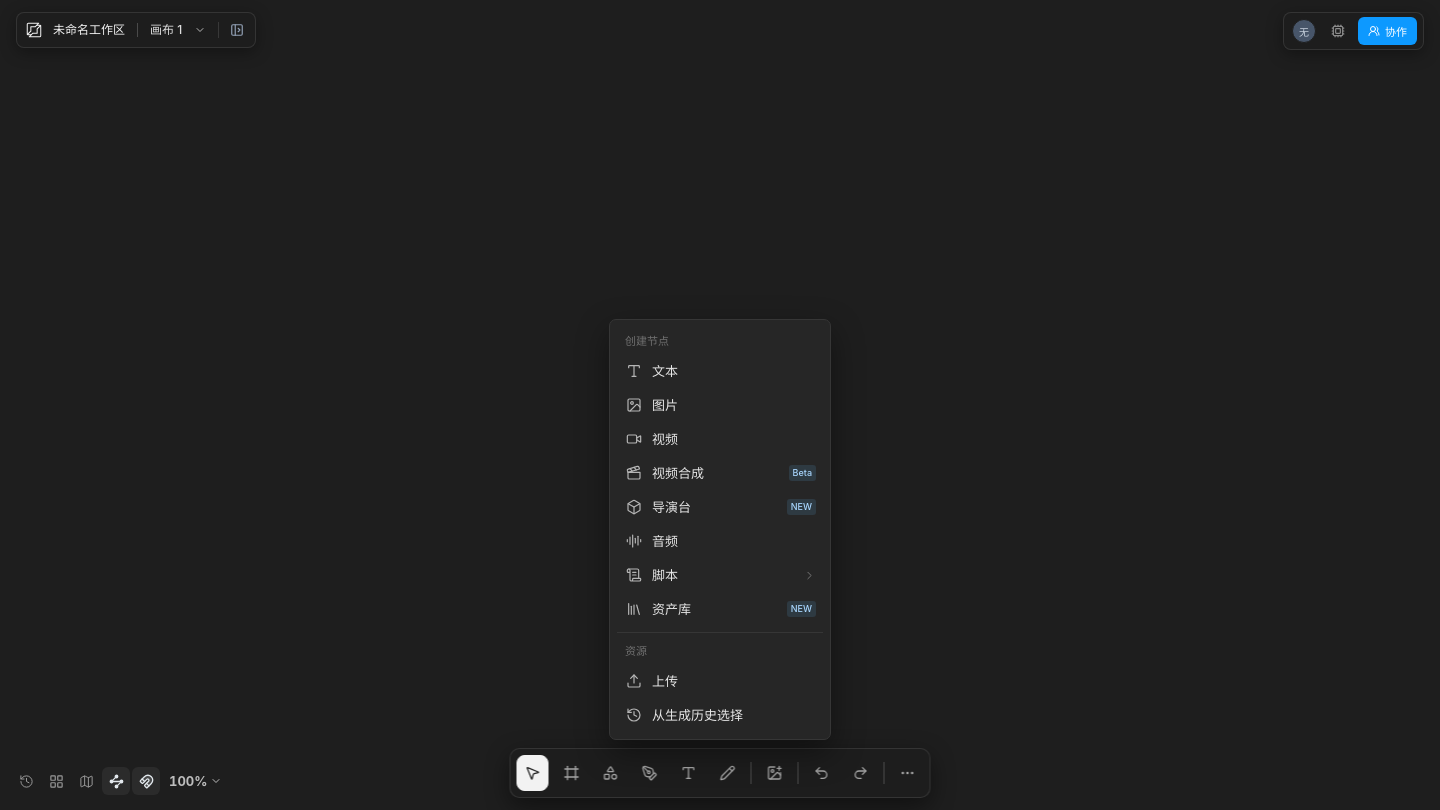
Scenario: canvas application integration › opens project generation history from the add-node menu
Earlier steps of the test are not shown.
Click the menu item "从生成历史选择" at {"x": 720, "y": 715}, box [617, 698, 823, 732]
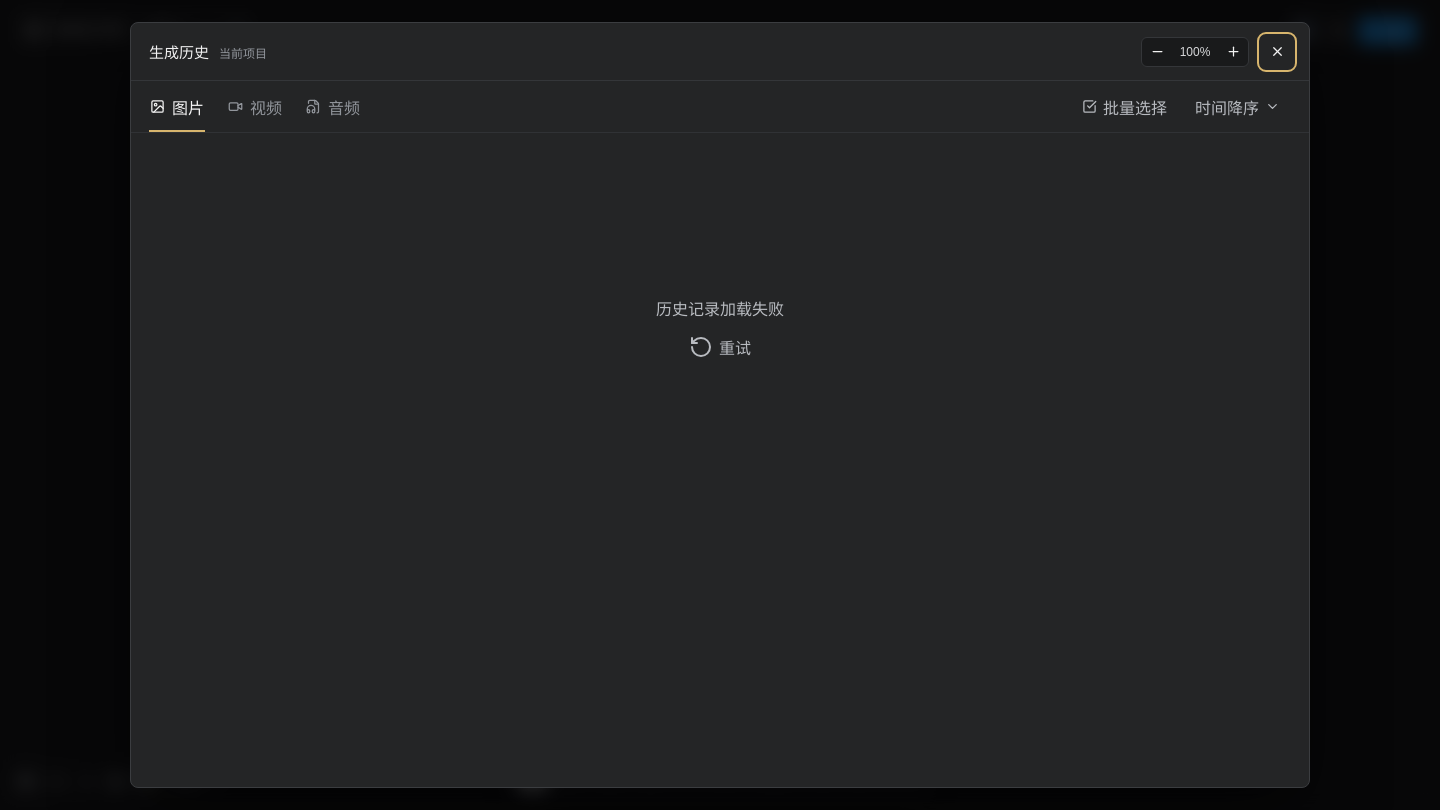
Expected: the dialog "生成历史" is shown
